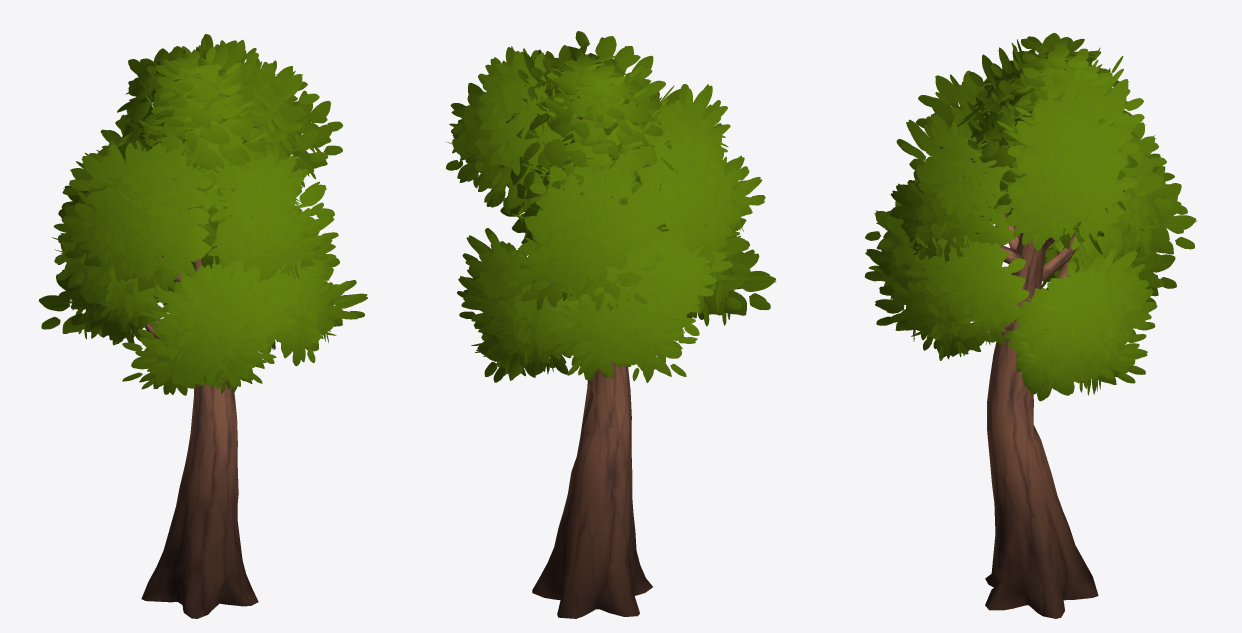
File: CommonTree_1.glb
The picture shows the model from 3 angles, left to right: view 1: azimuth 30°, elevation 25°; view 2: azimuth 150°, elevation 25°; view 3: azimuth 270°, elevation 25°; orthographic projection. The views are drawn at different scales.
Parts seen in each view (by area): view 1: CommonTree_1; view 2: CommonTree_1; view 3: CommonTree_1.
Boxes of the visible parts, x1=… form: CommonTree_1: x1=38, y1=34, x2=367, y2=618; CommonTree_1: x1=445, y1=31, x2=776, y2=618; CommonTree_1: x1=864, y1=33, x2=1197, y2=618.
Bounding box in the file's own units: 4.31 × 7.26 × 4.58.
2 materials, 2 textured.
